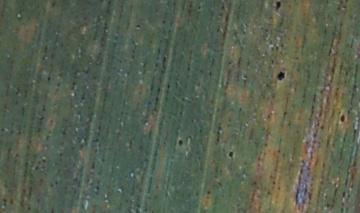tarspot: (277, 71, 285, 82), (177, 137, 184, 146), (227, 149, 234, 158), (9, 196, 15, 206), (276, 1, 281, 12), (340, 113, 345, 124), (341, 189, 347, 198), (205, 188, 212, 195), (46, 74, 52, 82), (1, 197, 8, 203), (320, 123, 325, 129)
